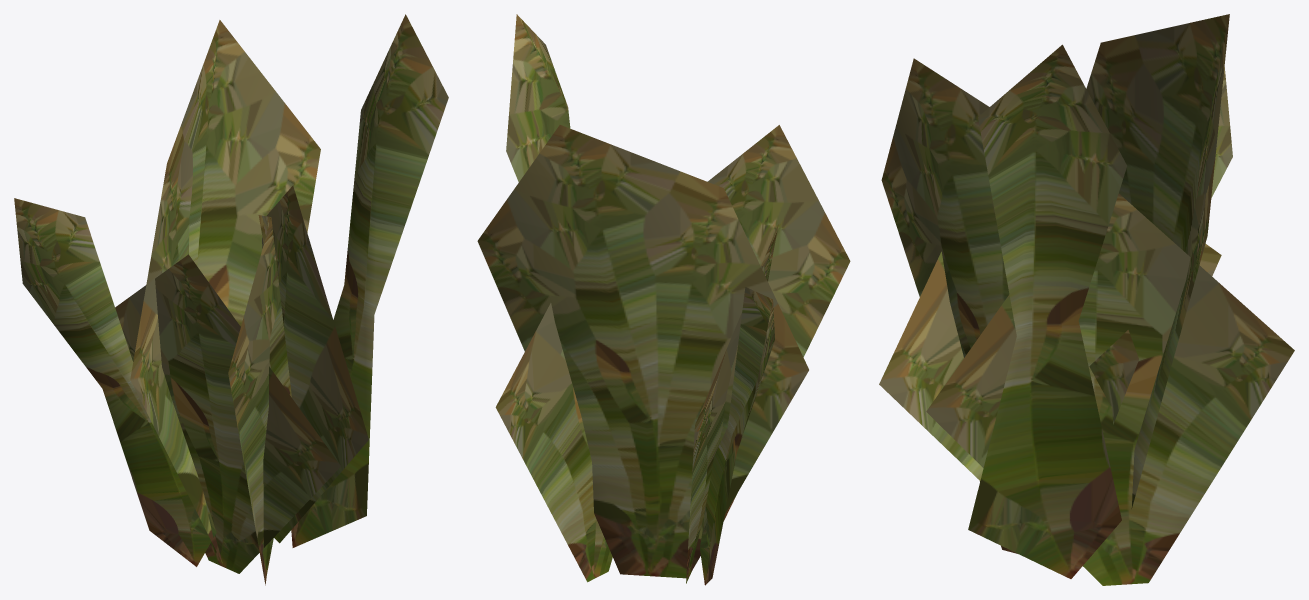
File: Grass_top_var2.fbx
The picture shows the model from 3 angles, left to right: view 1: azimuth 30°, elevation 25°; view 2: azimuth 150°, elevation 25°; view 3: azimuth 270°, elevation 25°; orthographic projection. The views are drawn at different scales.
Visible parts, largest first — view 1: Grass_top_var2_LOD0; view 2: Grass_top_var2_LOD0; view 3: Grass_top_var2_LOD0.
Boxes of the visible parts, x1,y1,x2,y2 form: Grass_top_var2_LOD0: [14, 14, 448, 585]; Grass_top_var2_LOD0: [477, 14, 850, 585]; Grass_top_var2_LOD0: [879, 14, 1294, 585].
Size of what is drawn, in the model's own units: 53.82 by 80.28 by 50.13.
